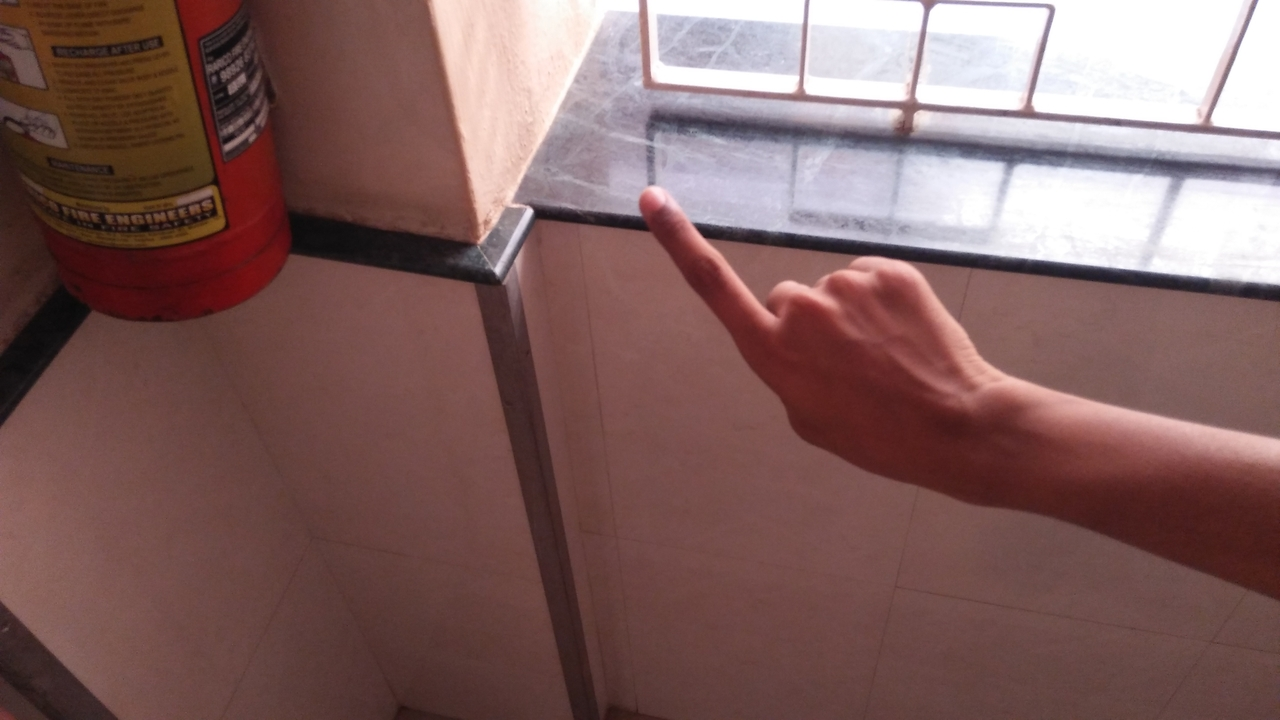fingertip: (634, 176, 688, 230)
